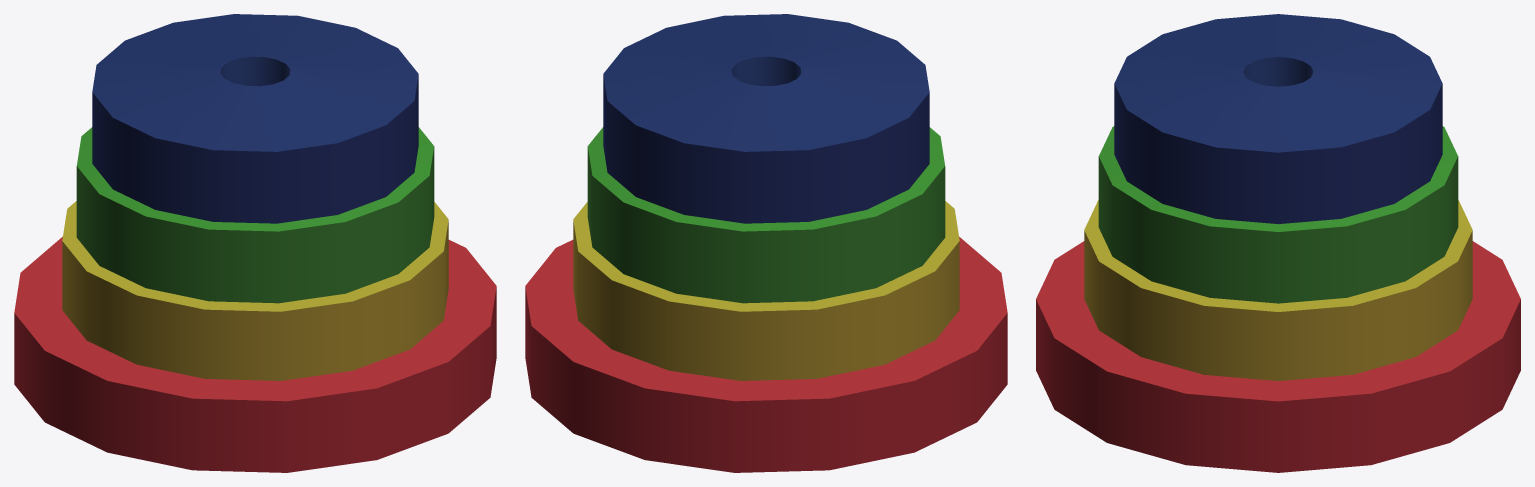
3 views of the same model, side by side, from view 1: azimuth 30°, elevation 25°; view 2: azimuth 150°, elevation 25°; view 3: azimuth 270°, elevation 25° (orthographic).
Visible parts, largest first — view 1: color.058; view 2: color.058; view 3: color.058.
Part boxes in pixels (left/top/right/bottom): color.058: left=14, top=14, right=496, bottom=472; color.058: left=525, top=14, right=1007, bottom=472; color.058: left=1036, top=14, right=1520, bottom=472.
Size of the model in its own units: 0.5 by 0.3397 by 0.5.
